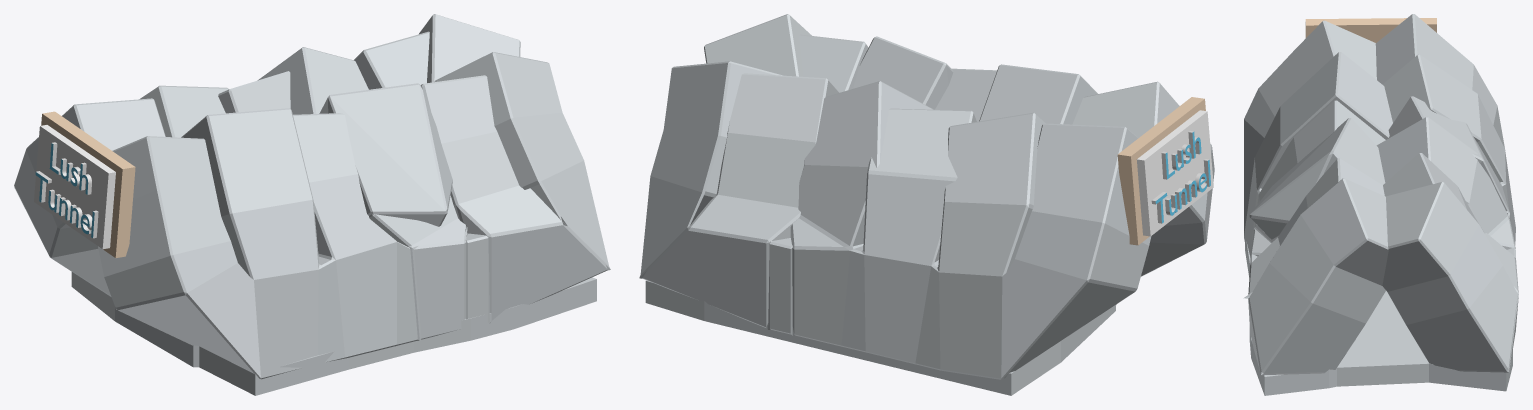
File: Tunnel.fbx
3 renders of one model, left to right at view 1: azimuth 30°, elevation 25°; view 2: azimuth 150°, elevation 25°; view 3: azimuth 270°, elevation 25°, orthographic. The views are drawn at different scales.
Parts seen in each view (by area): view 1: Cube.009, Plane.002, Text.001; view 2: Cube.009, Plane.002, Text.001; view 3: Cube.009, Plane.002.
Boxes of the visible parts, x1,y1,x2,y2 form: Cube.009: (14,14,610,395); Plane.002: (34,111,135,257); Text.001: (35,142,98,238); Cube.009: (639,14,1214,395); Plane.002: (1117,97,1213,245); Text.001: (1151,130,1210,223); Cube.009: (1243,14,1518,395); Plane.002: (1305,18,1436,42).
Bounding box in the file's own units: 11303 × 5343 × 6548.
